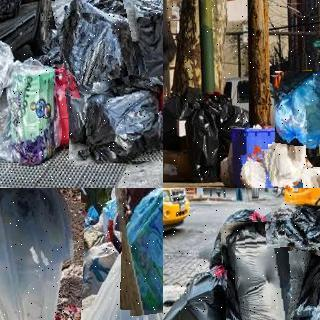Garbage: (0, 188, 87, 320), (70, 204, 163, 320), (223, 220, 317, 320), (55, 0, 145, 95), (67, 78, 163, 164), (0, 38, 63, 166), (114, 188, 163, 313), (129, 8, 163, 140), (273, 69, 320, 157), (163, 268, 234, 320), (33, 195, 81, 265), (268, 202, 320, 252), (289, 251, 320, 320), (234, 150, 285, 188), (266, 143, 304, 188), (280, 167, 320, 188)
